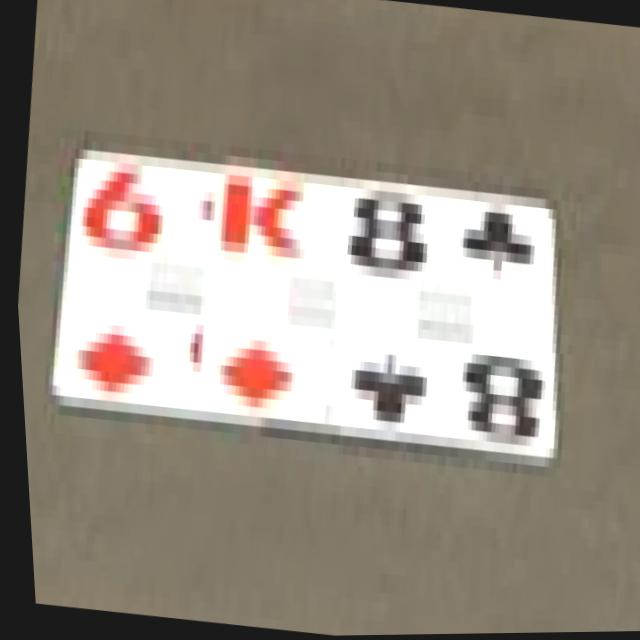Card-6: (48, 139, 215, 423)
Card-8: (324, 177, 550, 459)
Card-K: (196, 157, 339, 429)
